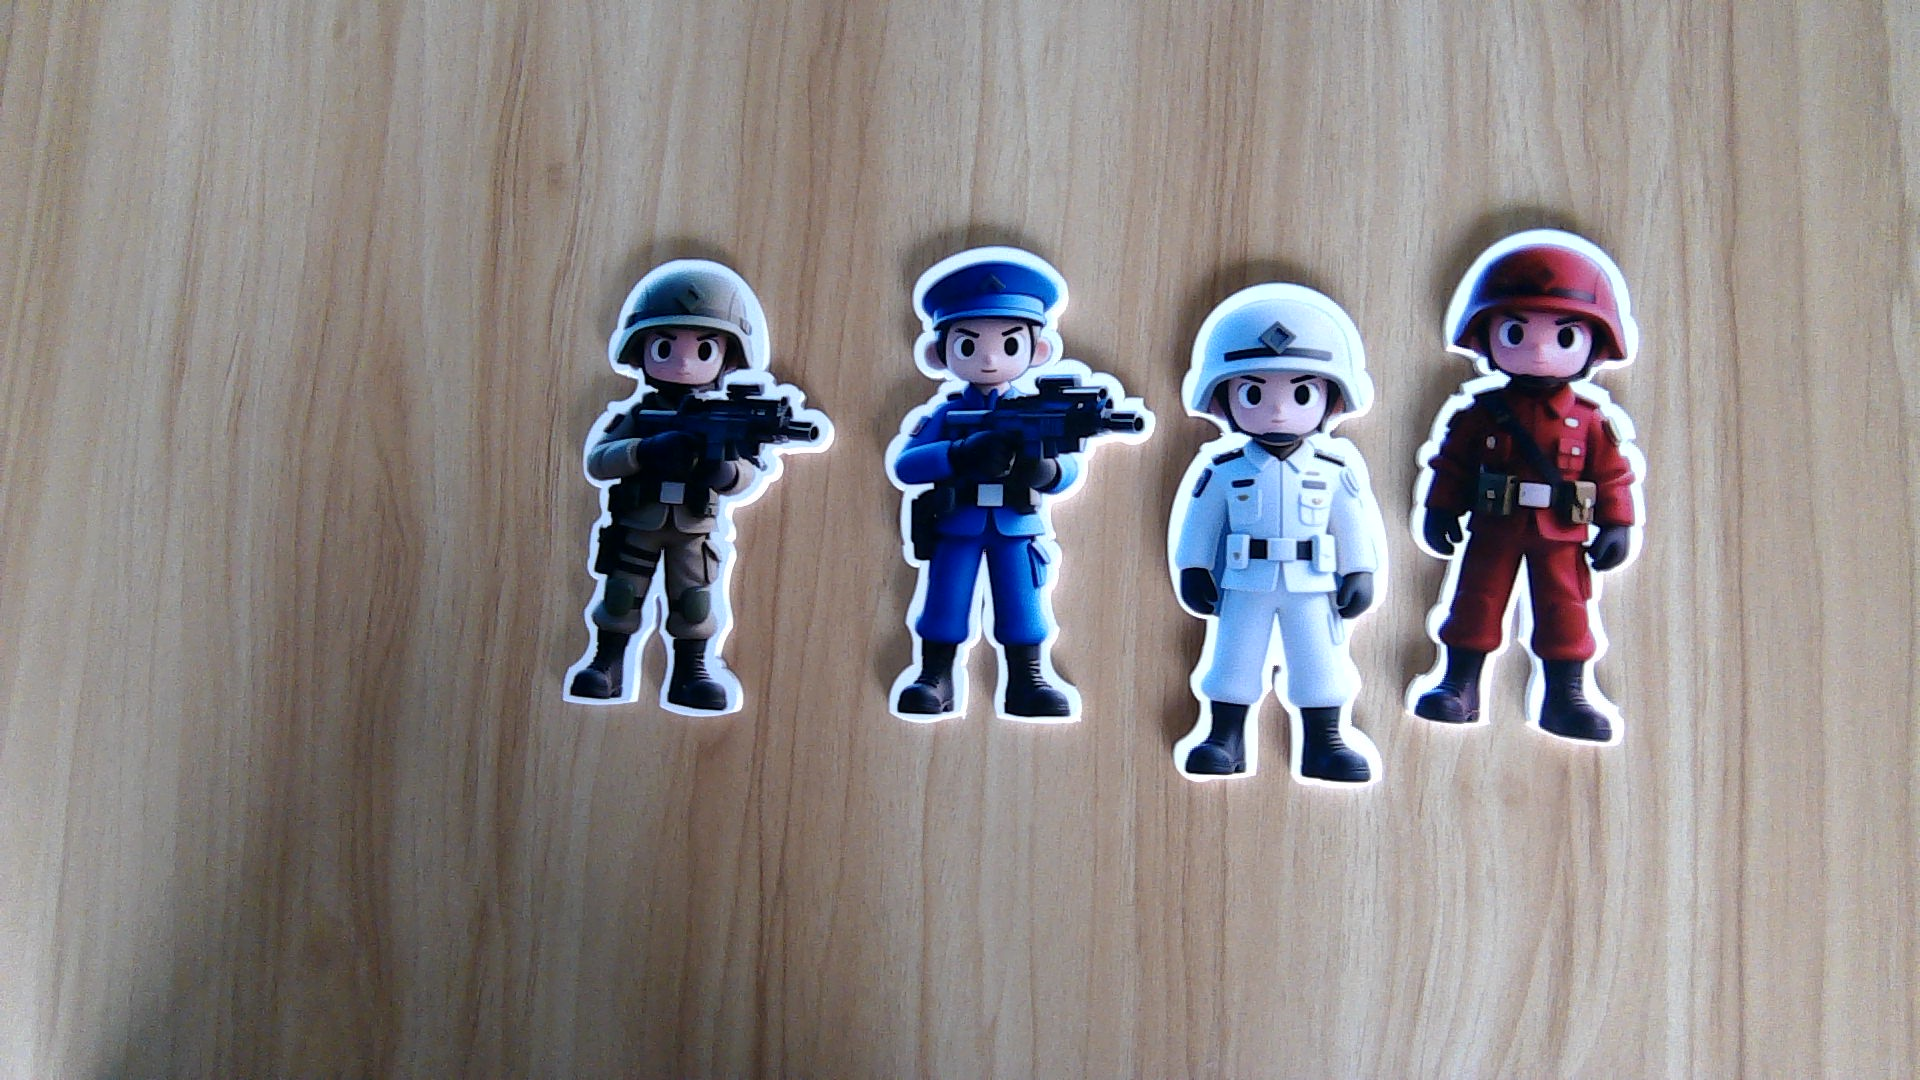人质: (1166, 435, 1391, 793)
友军: (560, 386, 827, 713)
敌人1: (1403, 372, 1646, 753)
敌人2: (878, 386, 1154, 727)
